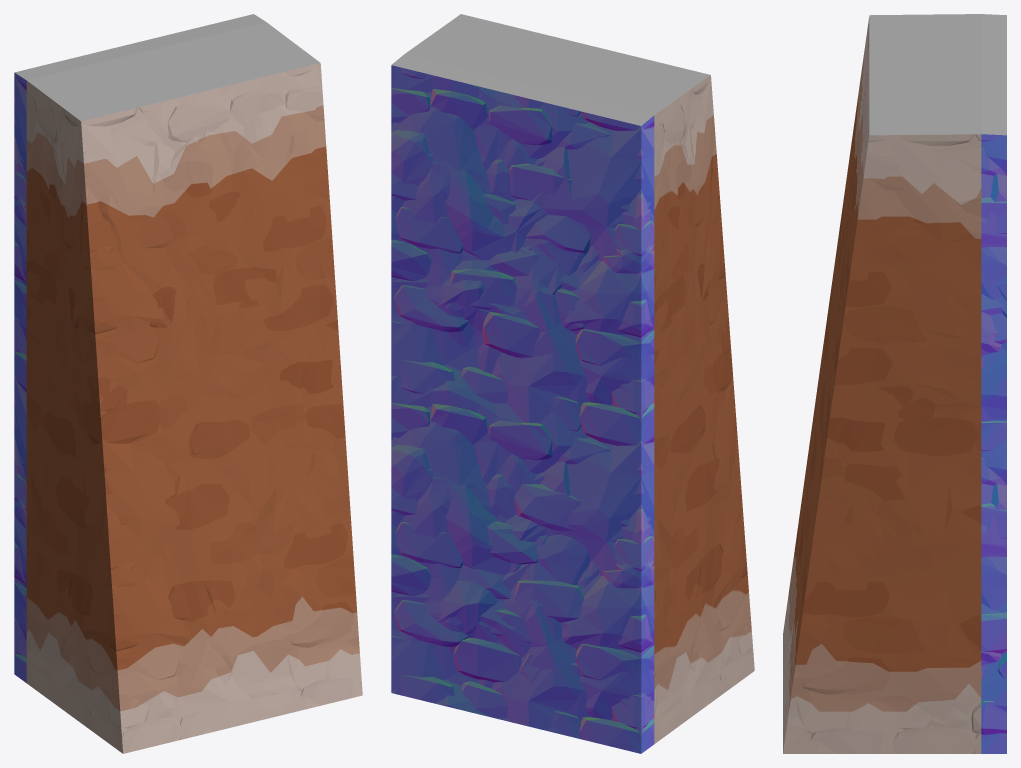
Rendered from SM_Bld_Wall_Ground_Half_01.fbx.
3 renders of one model, left to right at view 1: azimuth 30°, elevation 25°; view 2: azimuth 150°, elevation 25°; view 3: azimuth 270°, elevation 25°, orthographic. The views are drawn at different scales.
Visible parts, largest first — view 1: SM_Bld_Wall_Ground_Half_01; view 2: SM_Bld_Wall_Ground_Half_01; view 3: SM_Bld_Wall_Ground_Half_01.
Boxes of the visible parts, left/top/right/bottom form: SM_Bld_Wall_Ground_Half_01: left=14, top=14, right=362, bottom=753; SM_Bld_Wall_Ground_Half_01: left=391, top=14, right=754, bottom=753; SM_Bld_Wall_Ground_Half_01: left=783, top=14, right=1006, bottom=753.
Bounding box in the file's own units: 125 × 301 × 98.39.
